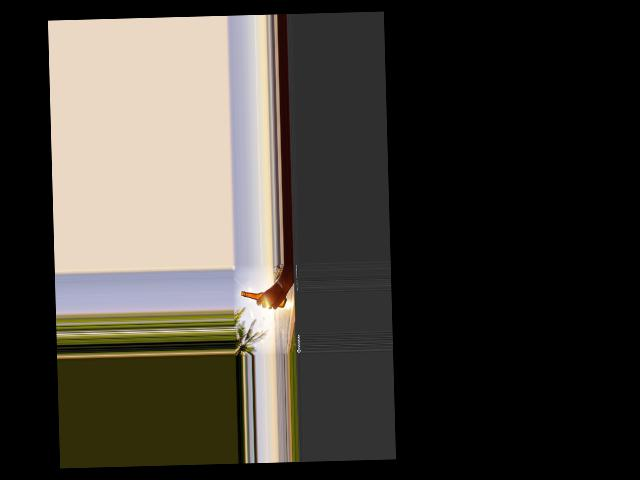beer: (241, 289, 287, 308)
